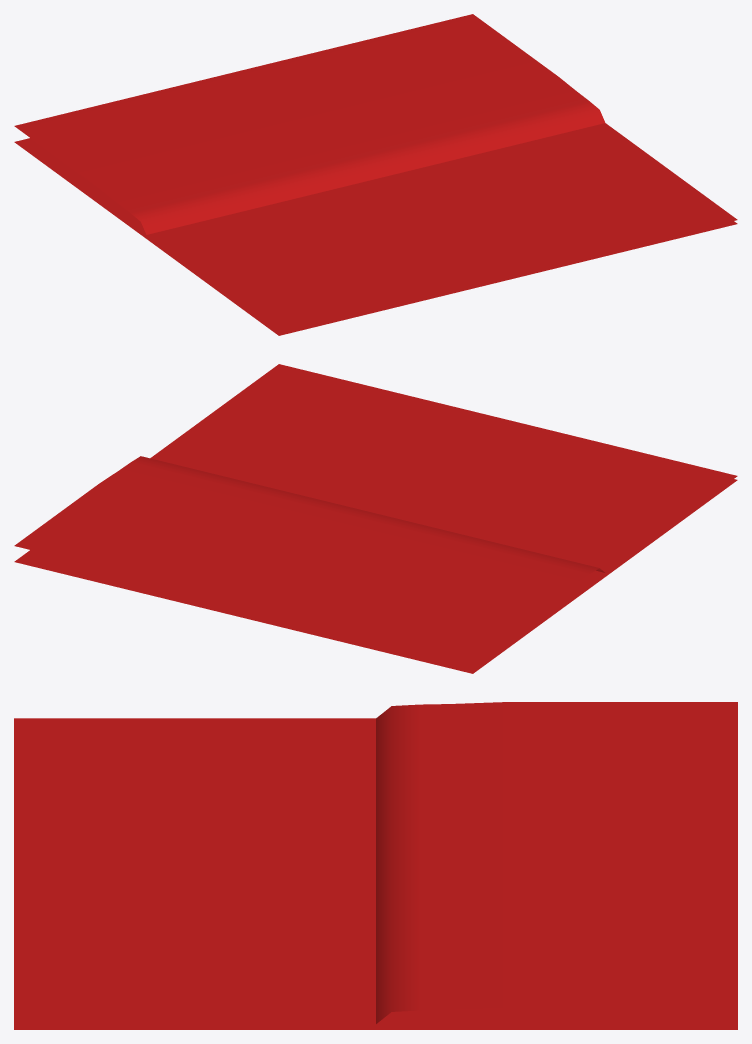
The model's file is sidewalk dir collider.FBX.
3 views of the same model, one above another, from view 1: azimuth 30°, elevation 25°; view 2: azimuth 150°, elevation 25°; view 3: azimuth 270°, elevation 25° (orthographic). The views are drawn at different scales.
Visible parts, largest first — view 1: Object025; view 2: Object025; view 3: Object025.
Boxes of the visible parts, box(x1,y1,x2,y2) form: Object025: box(14, 14, 737, 335); Object025: box(14, 364, 737, 673); Object025: box(14, 702, 737, 1029).
Bounding box in the file's own units: 3 × 0.1 × 3.
